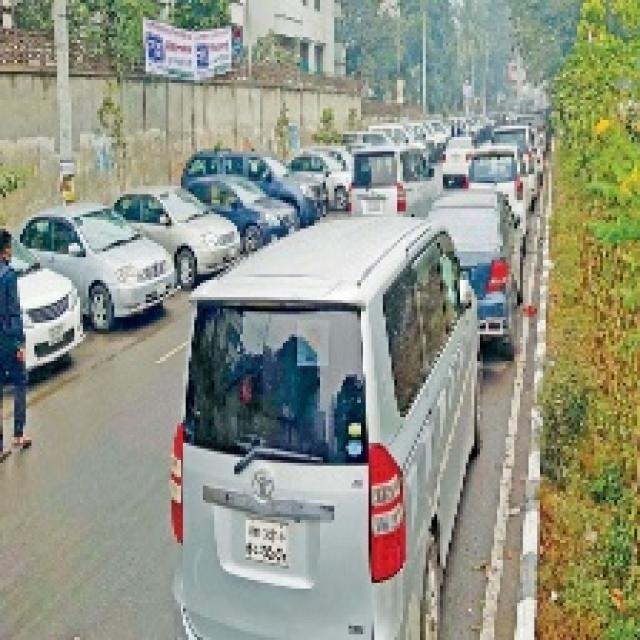car: (159, 219, 448, 625), (33, 186, 177, 316), (425, 188, 522, 347), (131, 184, 242, 272), (193, 166, 295, 248)
